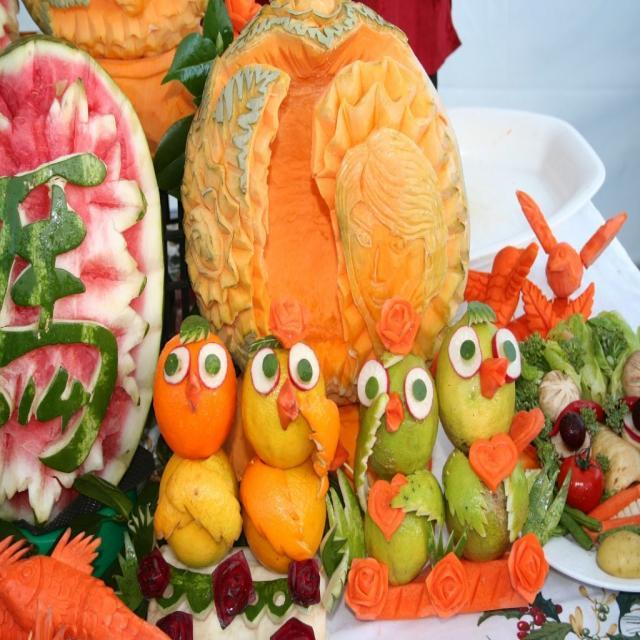Non_Gorille: (0, 0, 636, 640)
